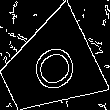O_SW: (19, 37, 78, 99)
